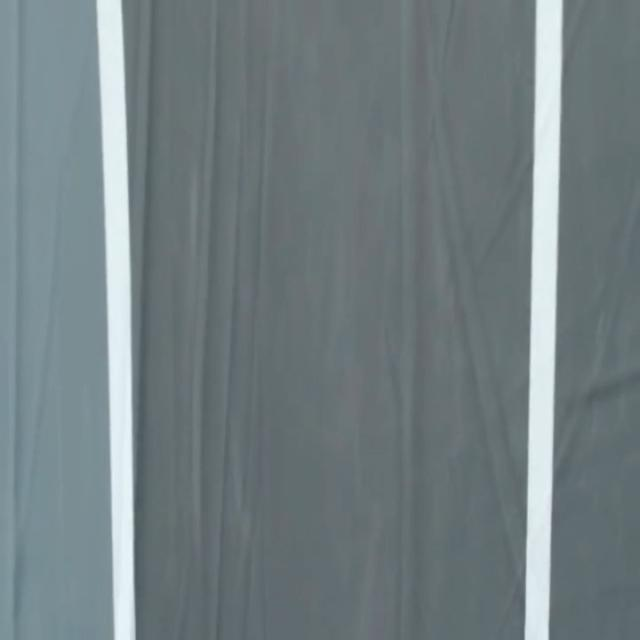center: (524, 0, 562, 639)
left: (96, 0, 135, 639)
